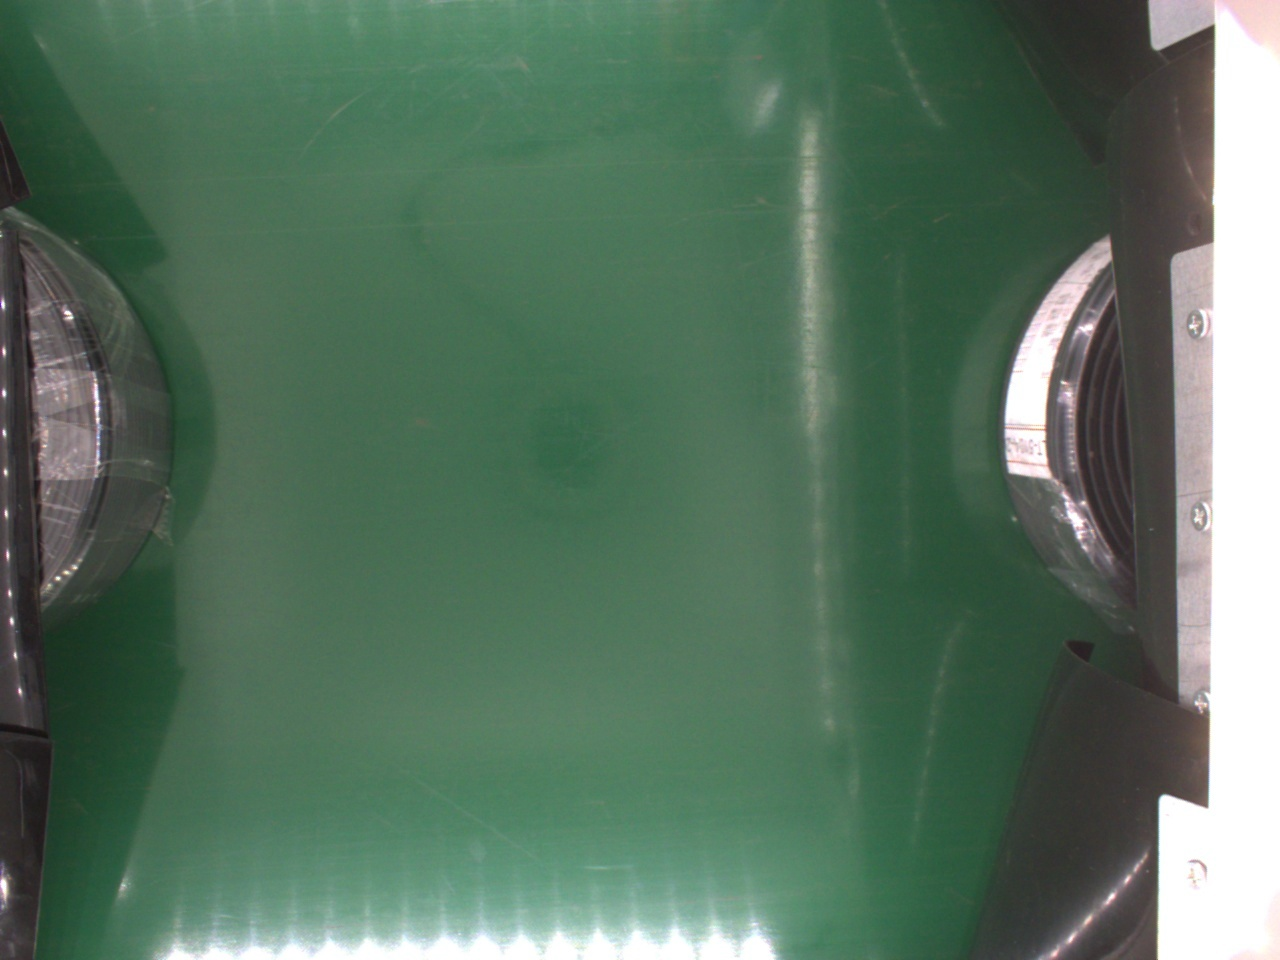black: (8, 211, 165, 614), (1003, 238, 1140, 639)
